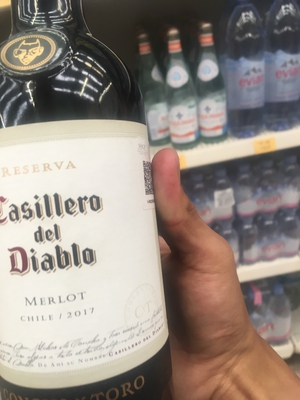casillero del diablo merlot: (1, 21, 179, 400)
